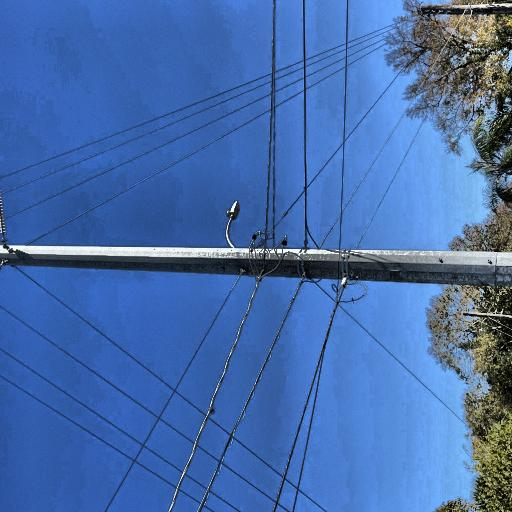pole: (87, 0, 146, 512)
street light: (124, 362, 179, 392)
